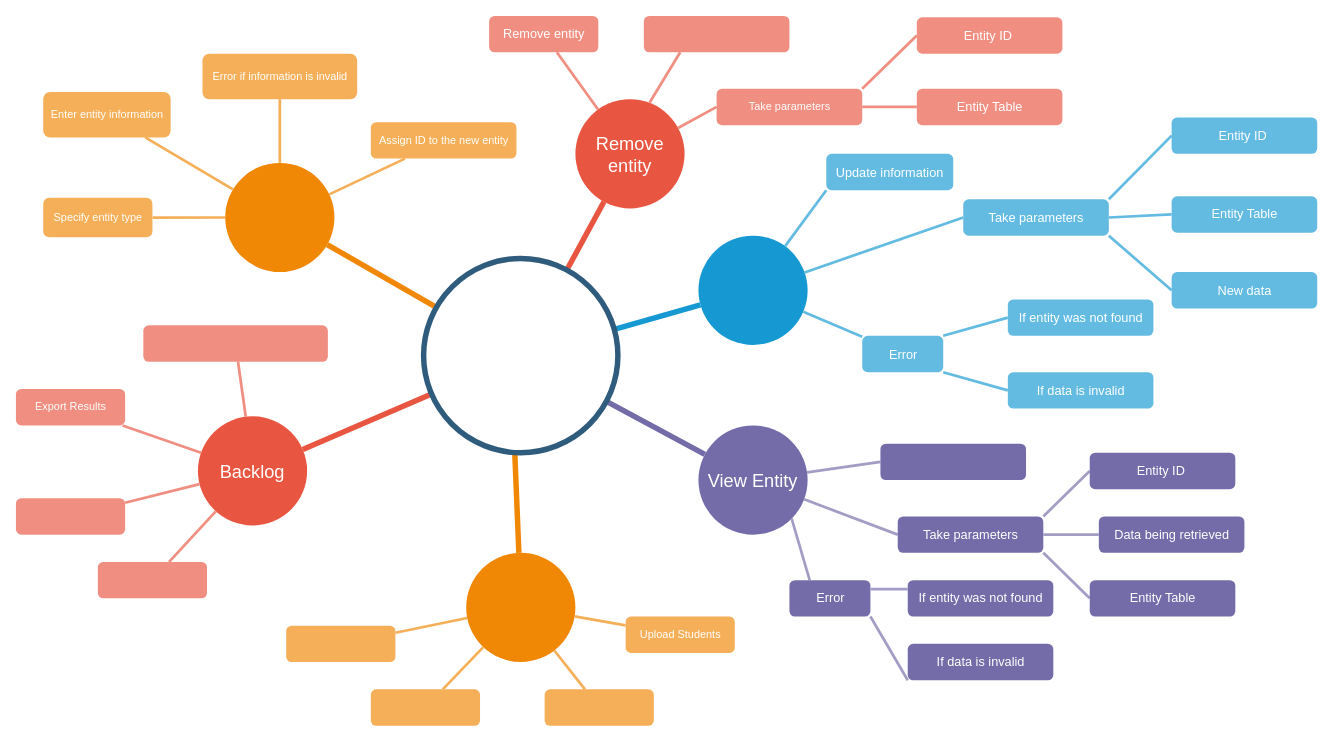
Image size: 1332x741. Some labels were removed from this diagram. The shapes that lost their labels are listed below. From the top down, each one's centre as x and y in pixels, then its label:
[716,33]: Error if entity not found
[279,217]: Add entity feature
[752,289]: Change entity
[235,343]: DataEx->Export attendance
[520,355]: Admin epic
[953,461]: Show entity information
[520,607]: Data Exchange
